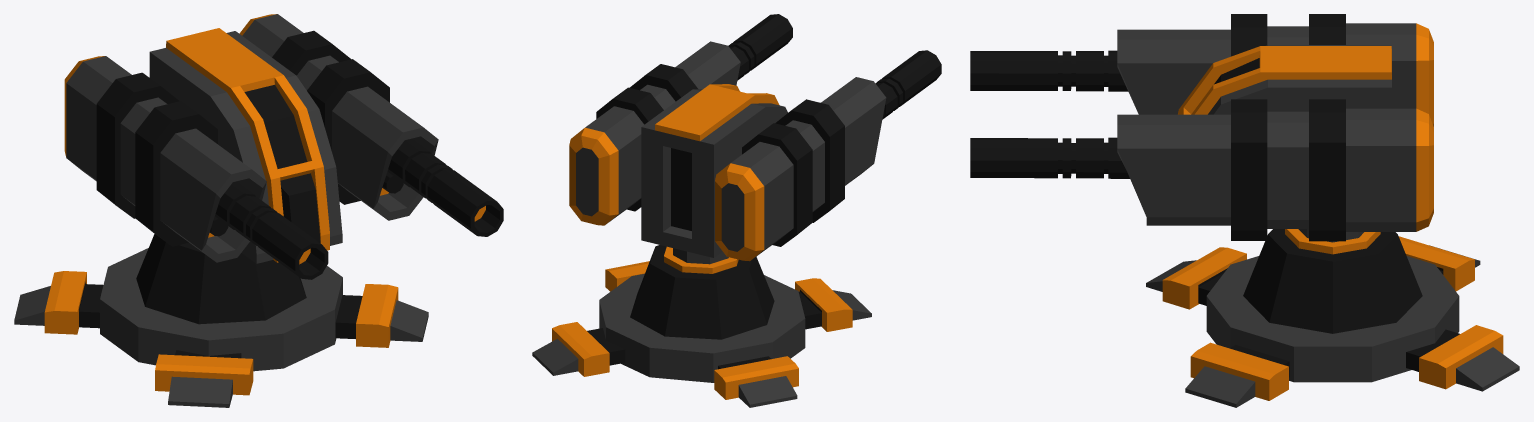
File: turret3.3.fbx
3 renders of one model, left to right at view 1: azimuth 30°, elevation 25°; view 2: azimuth 150°, elevation 25°; view 3: azimuth 270°, elevation 25°, orthographic. The views are drawn at different scales.
Visible parts, largest first — view 1: Cube.003, Cube.002, Cylinder, base, Cylinder.002, Cube, Cube.001, turret head; view 2: Cube.003, Cube.002, base, Cylinder, Cube.001, Cylinder.002, Cube; view 3: Cube.003, base, Cylinder, Cylinder.002, Cube.002, Cube.001, Cube.
Part boxes in pixels (box(x1,y1,x2,y2)): Cube.003: box(64, 14, 438, 262); Cube.002: box(149, 28, 342, 263); Cylinder: box(100, 248, 342, 371); base: box(136, 234, 306, 324); Cylinder.002: box(215, 138, 503, 279); Cube: box(14, 271, 428, 347); Cube.001: box(155, 350, 253, 407); turret head: box(209, 171, 403, 236); Cube.003: box(569, 41, 886, 261); Cube.002: box(641, 84, 788, 257); base: box(630, 245, 774, 339); Cylinder: box(599, 273, 805, 382); Cube.001: box(532, 278, 871, 376); Cylinder.002: box(728, 14, 941, 119); Cube: box(605, 261, 798, 407); Cube.003: box(1117, 14, 1433, 241); base: box(1243, 229, 1422, 333); Cylinder: box(1206, 256, 1459, 382); Cylinder.002: box(970, 50, 1129, 178); Cube.002: box(1178, 45, 1391, 114); Cube.001: box(1146, 247, 1519, 391); Cube: box(1185, 236, 1480, 407).
Size of the model in its own units: 297 by 238 by 435.
